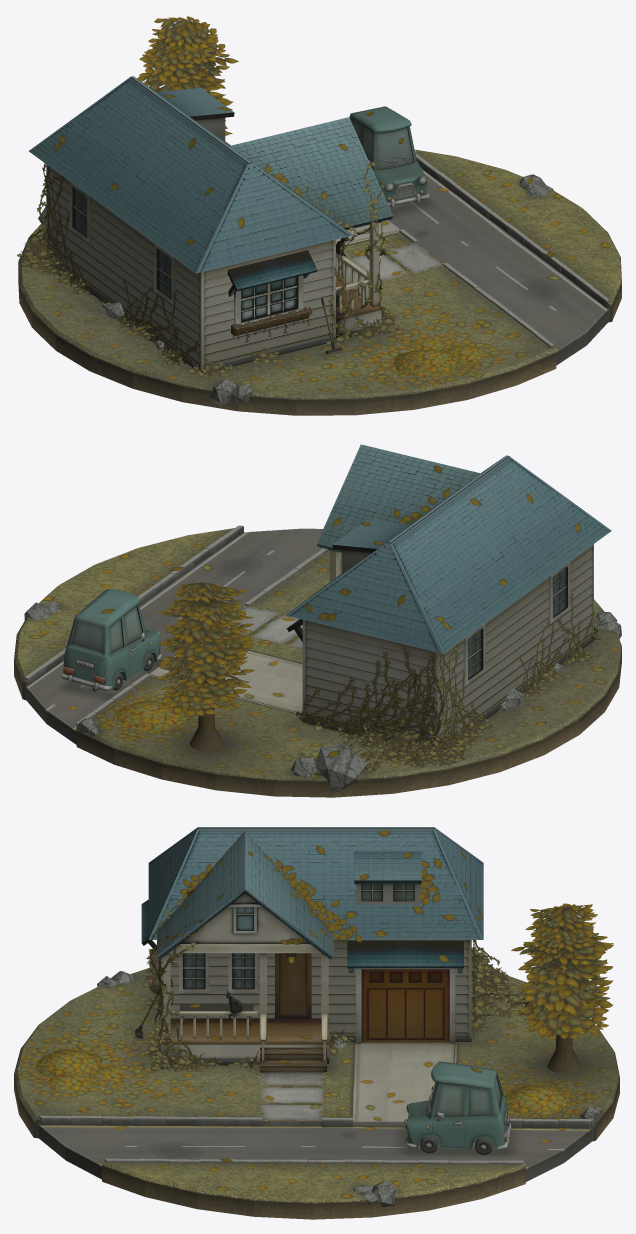
File: autumn_house_8tFZ350.glb
3 views of the same model, one above another, from view 1: azimuth 30°, elevation 25°; view 2: azimuth 150°, elevation 25°; view 3: azimuth 270°, elevation 25° (orthographic).
Parts seen in each view (by area): view 1: polySurface637, House_base, polySurface197, polySurface355, initialShadingGrouppolySurface116_polySurface3, House_window_01, polySurface226, polySurface243, House_smallroof_02, House_veranda, House_windows_06, House_windows_05 (+4 smaller); view 2: polySurface637, House_base, polySurface355, polySurface197, initialShadingGrouppolySurface116_polySurface3, polySurface276, polySurface250, House_smallroof_02, House_windows_05, House_windows_06, polySurface470, polySurface480 (+6 smaller); view 3: polySurface637, House_base, polySurface355, polySurface197, Garage_door, initialShadingGrouppolySurface116_polySurface3, House_veranda, polySurface179, House_roof_part_02, House_door, House_smallroof_02, House_stairs (+13 smaller).
Boxes of the visible parts, bbox=[...] form: polySurface637: bbox=[18, 149, 621, 415]; House_base: bbox=[28, 76, 353, 372]; polySurface197: bbox=[229, 117, 392, 229]; polySurface355: bbox=[137, 16, 238, 135]; initialShadingGrouppolySurface116_polySurface3: bbox=[349, 106, 429, 207]; House_window_01: bbox=[234, 275, 303, 324]; polySurface226: bbox=[227, 250, 317, 296]; polySurface243: bbox=[393, 349, 461, 376]; House_smallroof_02: bbox=[156, 88, 234, 120]; House_veranda: bbox=[336, 273, 381, 340]; House_windows_06: bbox=[69, 181, 91, 244]; House_windows_05: bbox=[154, 243, 175, 305]; polySurface637: bbox=[14, 526, 621, 797]; House_base: bbox=[285, 455, 611, 747]; polySurface355: bbox=[154, 582, 254, 751]; polySurface197: bbox=[316, 444, 480, 552]; initialShadingGrouppolySurface116_polySurface3: bbox=[61, 589, 161, 691]; polySurface276: bbox=[315, 744, 367, 792]; polySurface250: bbox=[115, 701, 186, 731]; House_smallroof_02: bbox=[332, 520, 410, 552]; House_windows_05: bbox=[548, 561, 570, 624]; House_windows_06: bbox=[463, 623, 485, 686]; polySurface470: bbox=[418, 730, 465, 766]; polySurface480: bbox=[375, 730, 424, 763]; polySurface637: bbox=[14, 968, 619, 1219]; House_base: bbox=[148, 827, 483, 1041]; polySurface355: bbox=[511, 903, 613, 1073]; polySurface197: bbox=[157, 830, 333, 959]; Garage_door: bbox=[355, 968, 455, 1043]; initialShadingGrouppolySurface116_polySurface3: bbox=[404, 1061, 511, 1155]; House_veranda: bbox=[161, 1018, 329, 1063]; polySurface179: bbox=[347, 941, 463, 973]; House_roof_part_02: bbox=[180, 893, 309, 943]; House_door: bbox=[275, 953, 311, 1018]; House_smallroof_02: bbox=[354, 851, 421, 884]; House_stairs: bbox=[260, 1047, 326, 1072].
Bounding box in the file's own units: 50.27 × 18.7 × 50.43.
6 materials, 5 textured.
